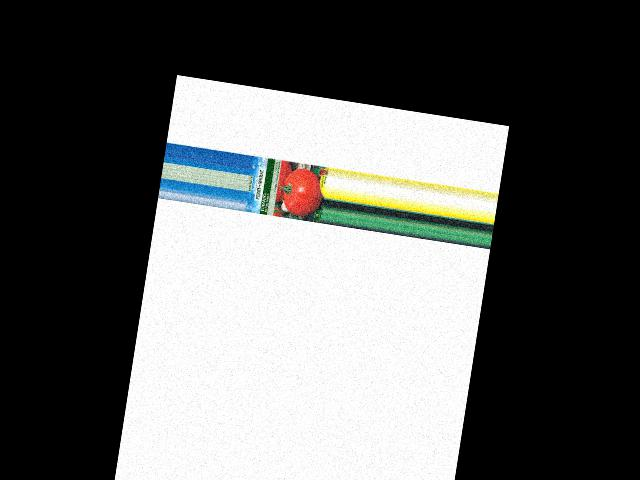tomato: (280, 166, 326, 218)
